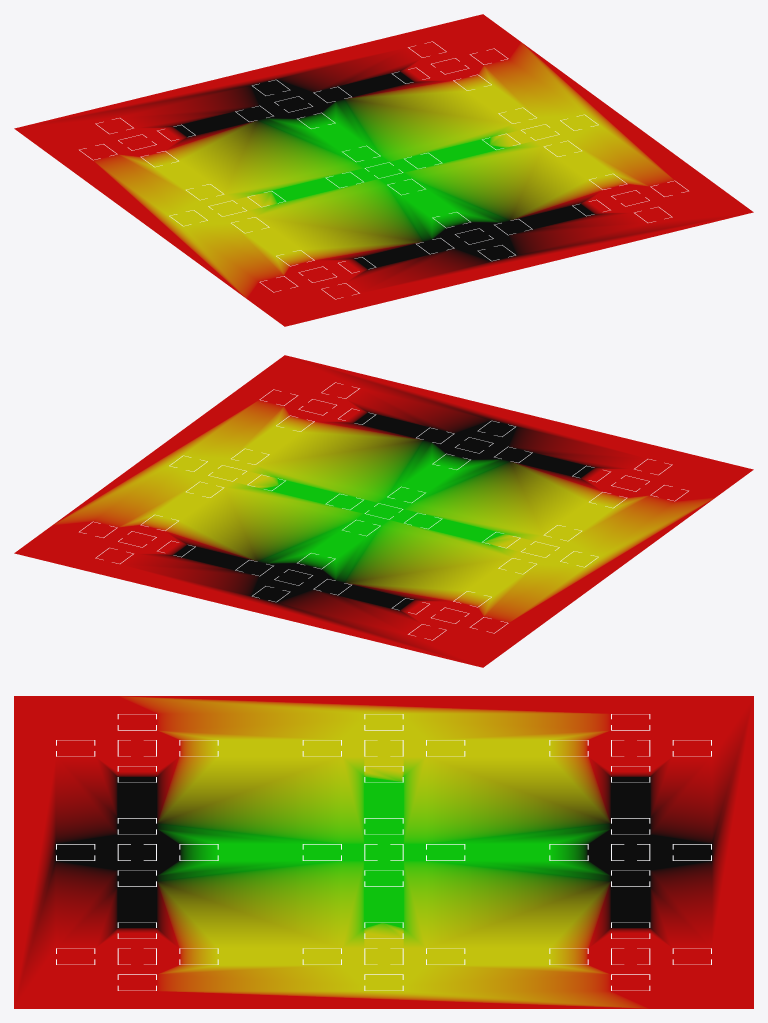
The model's file is testLevel2MakenavMesh08.fbx.
The picture shows the model from 3 angles, top to bottom: view 1: azimuth 30°, elevation 25°; view 2: azimuth 150°, elevation 25°; view 3: azimuth 270°, elevation 25°; orthographic projection. The views are drawn at different scales.
Visible parts, largest first — view 1: Plane004; view 2: Plane004; view 3: Plane004.
Part boxes in pixels (left/top/right/bottom): Plane004: left=14, top=14, right=753, bottom=326; Plane004: left=14, top=355, right=753, bottom=667; Plane004: left=14, top=696, right=753, bottom=1008.
Size of the model in its own units: 3000 by 1.84e-13 by 3000.
